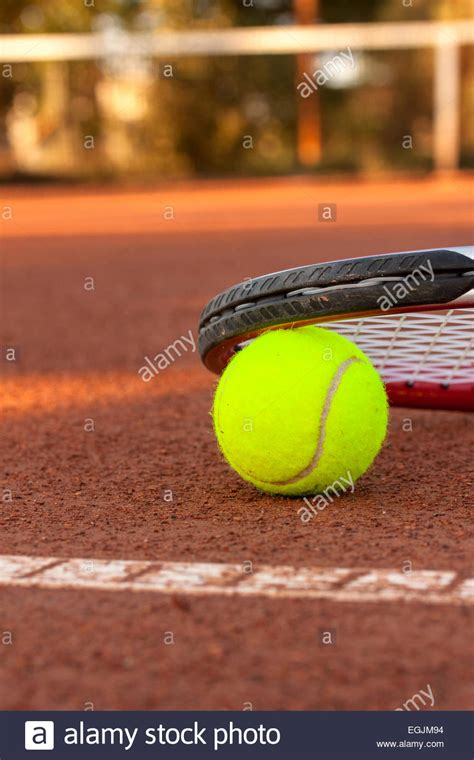tennis_ball: (212, 325, 389, 497)
